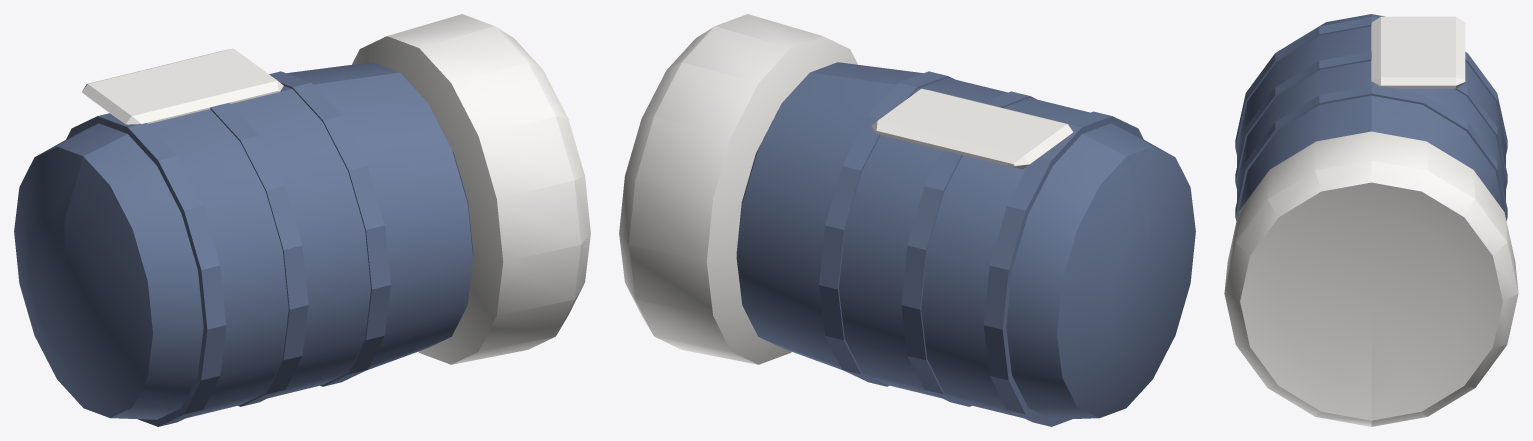
The model's file is rolled-socks.glb.
3 views of the same model, side by side, from view 1: azimuth 30°, elevation 25°; view 2: azimuth 150°, elevation 25°; view 3: azimuth 270°, elevation 25° (orthographic). The views are drawn at different scales.
Visible parts, largest first — view 1: socks-pair-rolled; view 2: socks-pair-rolled; view 3: socks-pair-rolled.
Boxes of the visible parts, x1,y1,x2,y2 form: socks-pair-rolled: (14,14,590,426); socks-pair-rolled: (619,14,1195,426); socks-pair-rolled: (1224,14,1518,426).
Size of the model in its own units: 0.142 by 0.094 by 0.094.
